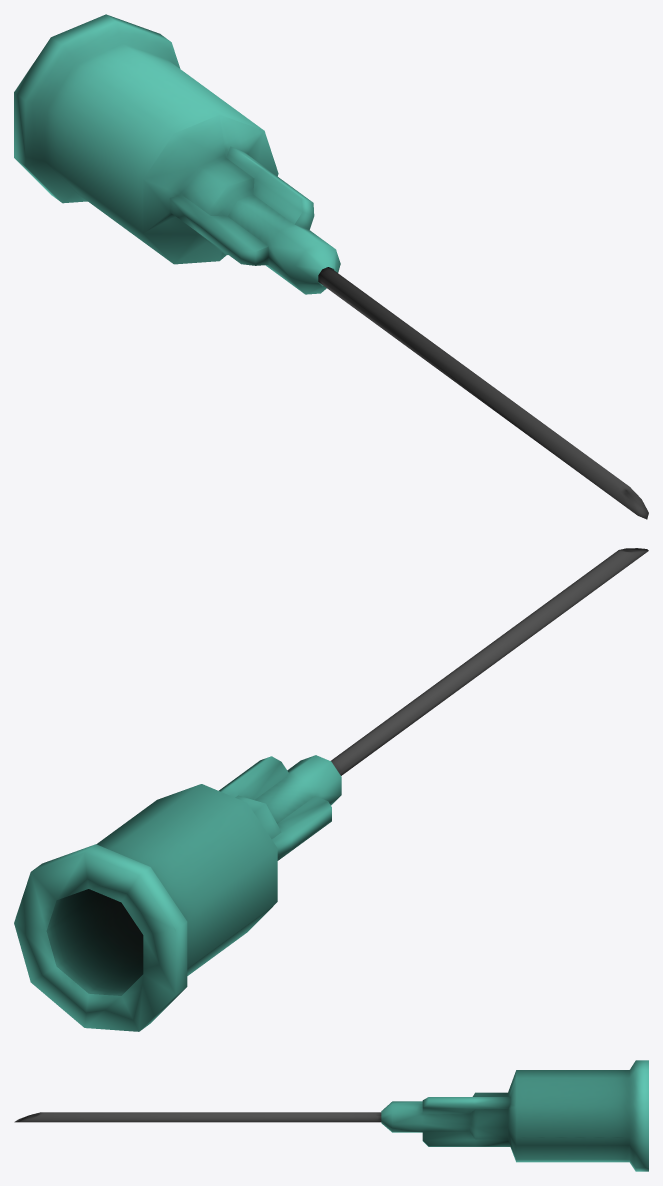
The model's file is needleTest.fbx.
3 views of the same model, one above another, from view 1: azimuth 30°, elevation 25°; view 2: azimuth 150°, elevation 25°; view 3: azimuth 270°, elevation 25° (orthographic). The views are drawn at different scales.
Parts seen in each view (by area): view 1: needle; view 2: needle; view 3: needle.
Boxes of the visible parts, box(x1,y1,x2,y2) form: needle: box(14, 14, 648, 519); needle: box(14, 548, 648, 1031); needle: box(14, 1060, 648, 1171).
Size of the model in its own units: 0.5008 by 0.5185 by 2.95.
